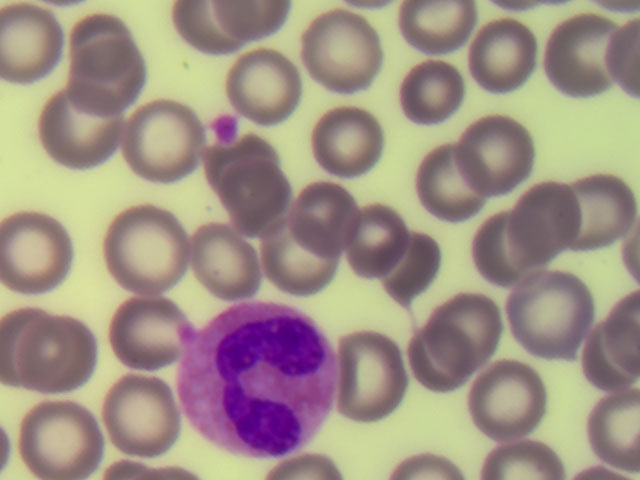Platelets: (211, 111, 243, 139)
RBC: (1, 7, 67, 80), (76, 36, 142, 109), (46, 90, 112, 163), (133, 104, 199, 177), (228, 161, 294, 234), (118, 216, 184, 289), (190, 228, 256, 301), (120, 294, 186, 367), (31, 323, 97, 396), (4, 214, 70, 287), (103, 371, 169, 444), (34, 407, 100, 480), (345, 333, 411, 406), (269, 223, 335, 296), (290, 189, 356, 262), (337, 196, 403, 269), (385, 230, 451, 303), (406, 328, 472, 401), (434, 297, 500, 370), (468, 363, 534, 436), (516, 281, 582, 354), (469, 207, 535, 280), (499, 181, 565, 254), (567, 168, 633, 241), (479, 112, 545, 185), (416, 144, 482, 217), (405, 67, 471, 140), (317, 100, 383, 173), (244, 52, 310, 125), (310, 16, 376, 89), (470, 18, 536, 91), (551, 22, 617, 95), (574, 394, 640, 467), (68, 1, 134, 73), (398, 1, 464, 73), (170, 1, 239, 65), (222, 1, 295, 50), (394, 1, 467, 49)
WBC: (183, 302, 336, 448)
